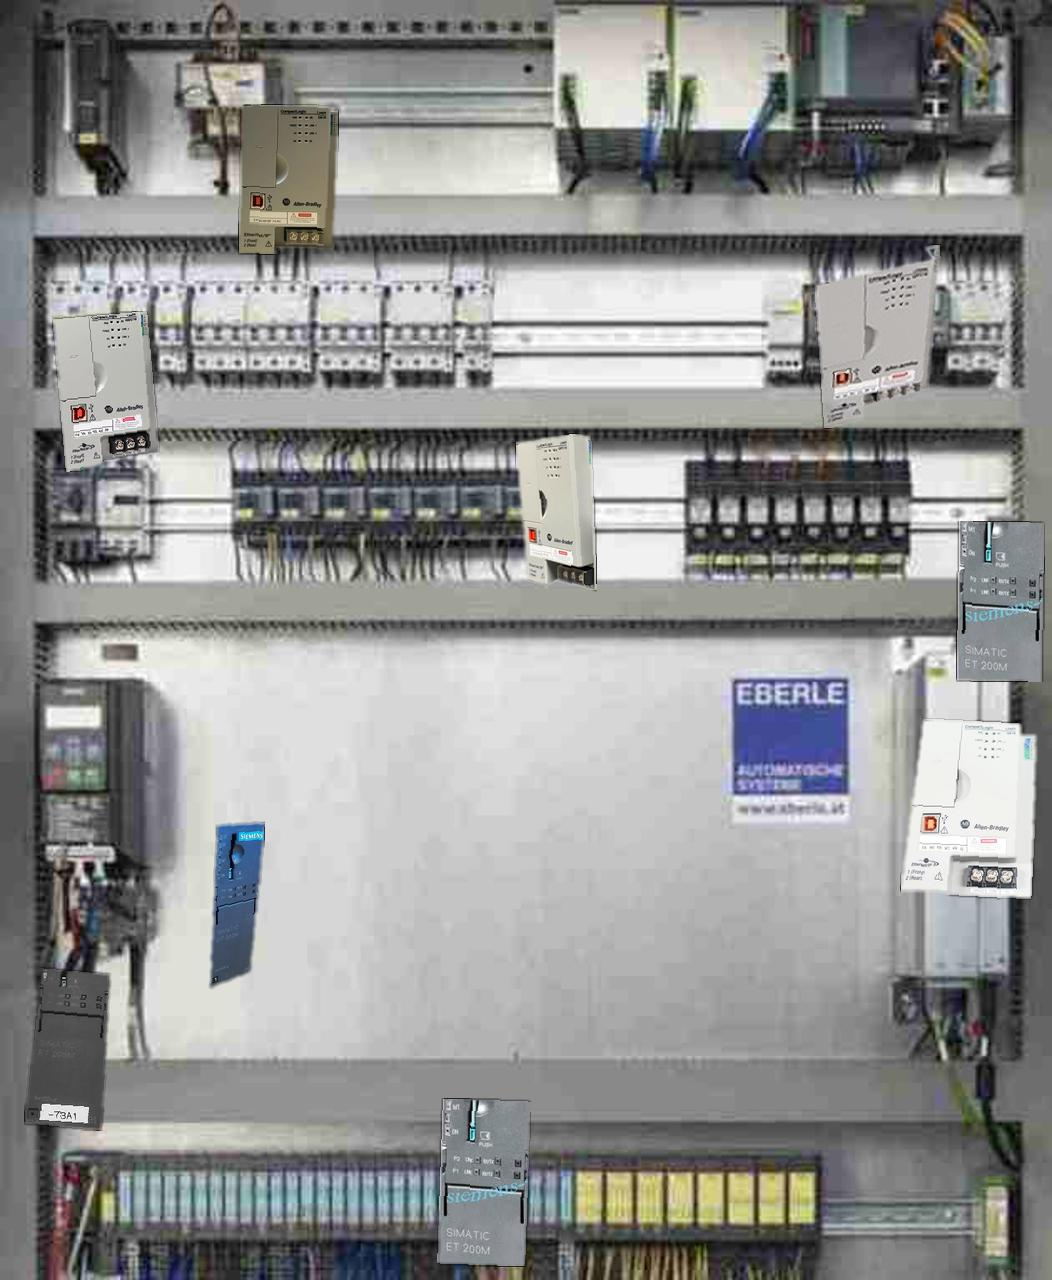AllenBradley: (901, 719, 1035, 897), (816, 245, 939, 427), (54, 311, 157, 471), (239, 104, 337, 253), (516, 434, 596, 589)
